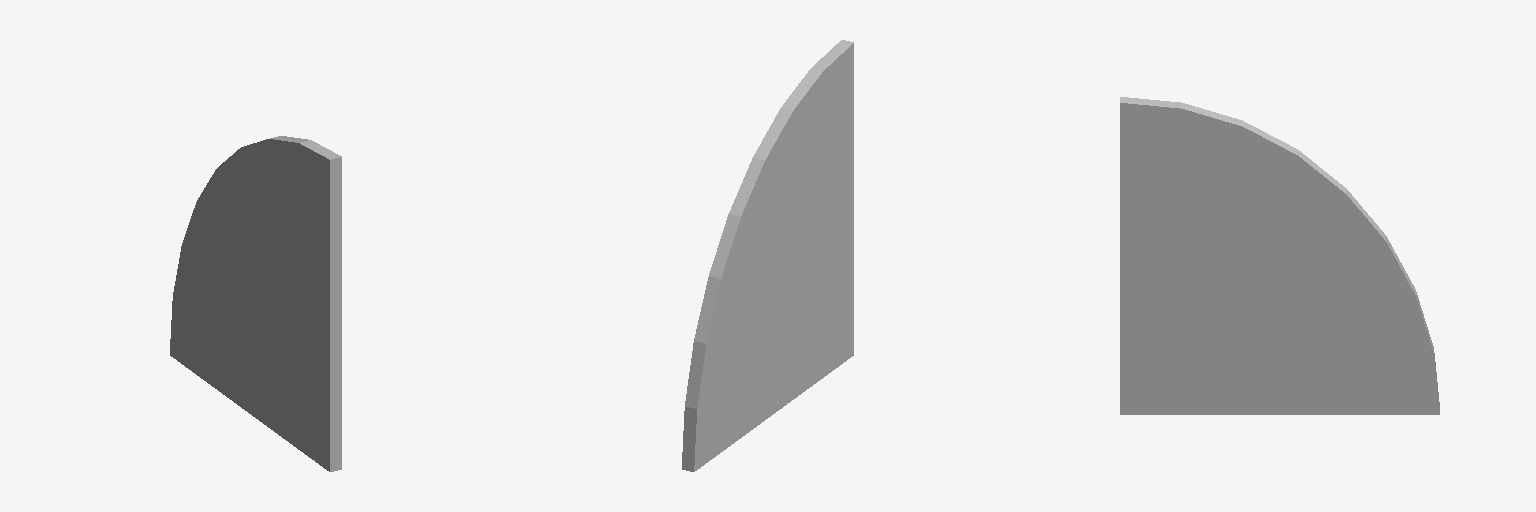
File: icosphere_solid_door_left.obj
The picture shows the model from 3 angles: view 1: azimuth 30°, elevation 25°; view 2: azimuth 150°, elevation 25°; view 3: azimuth 270°, elevation 25°; orthographic projection.
Parts seen in each view (by area): view 1: Door_Left_Inner; view 2: Door_Left_Inner; view 3: Door_Left_Inner.
Part boxes in pixels (bbox=[...]): Door_Left_Inner: bbox=[170, 136, 341, 471]; Door_Left_Inner: bbox=[682, 40, 853, 471]; Door_Left_Inner: bbox=[1120, 97, 1439, 414].
Bounding box in the file's own units: 0.2035 × 4.88 × 4.53.